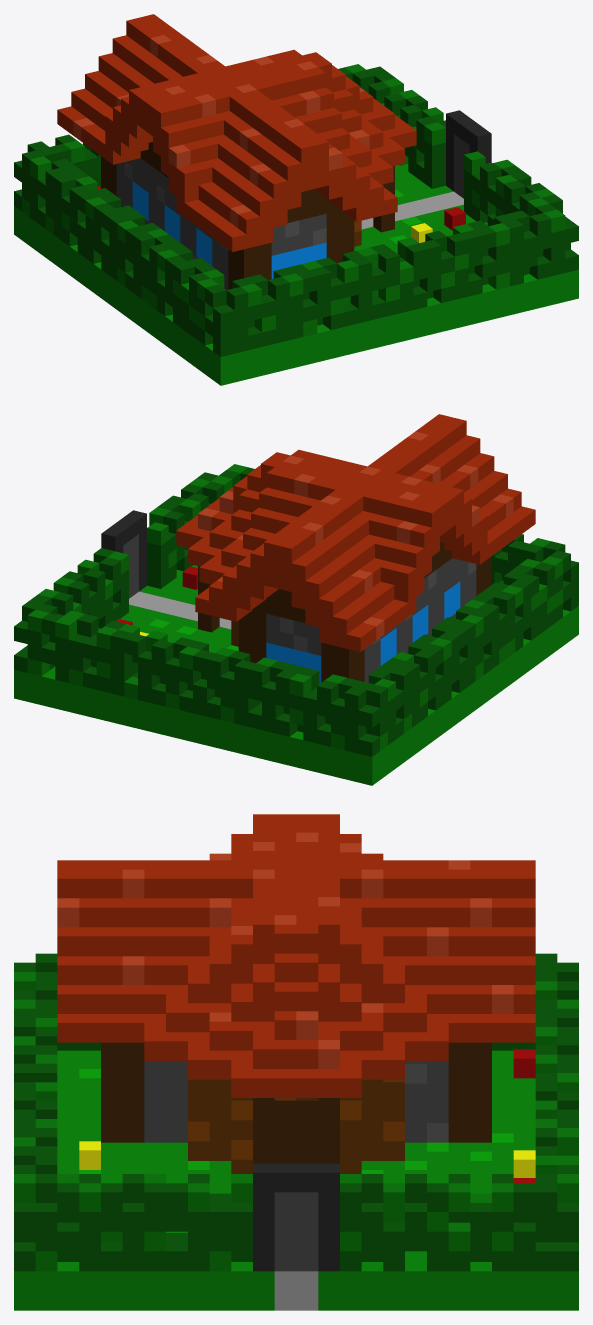
Rendered from house2.1.obj.
The picture shows the model from 3 angles, top to bottom: view 1: azimuth 30°, elevation 25°; view 2: azimuth 150°, elevation 25°; view 3: azimuth 270°, elevation 25°; orthographic projection. The views are drawn at different scales.
Size of the model in its own units: 2.6 by 1.4 by 2.6.
Materials: 1 (1 with a texture image).
